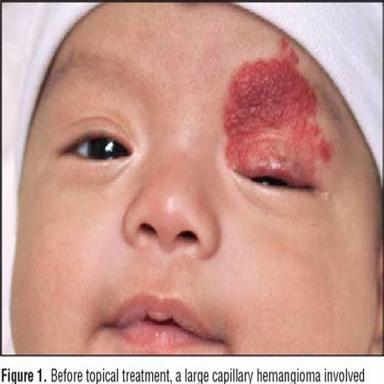Hemangiome: (224, 37, 331, 188)
